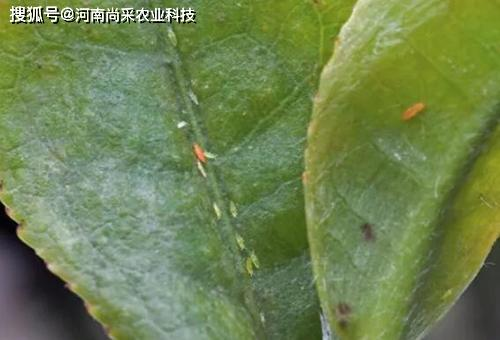thrips: (400, 101, 425, 120), (191, 143, 208, 164), (234, 232, 246, 252), (195, 161, 208, 178), (250, 249, 260, 269), (245, 257, 254, 276), (229, 201, 238, 218)
